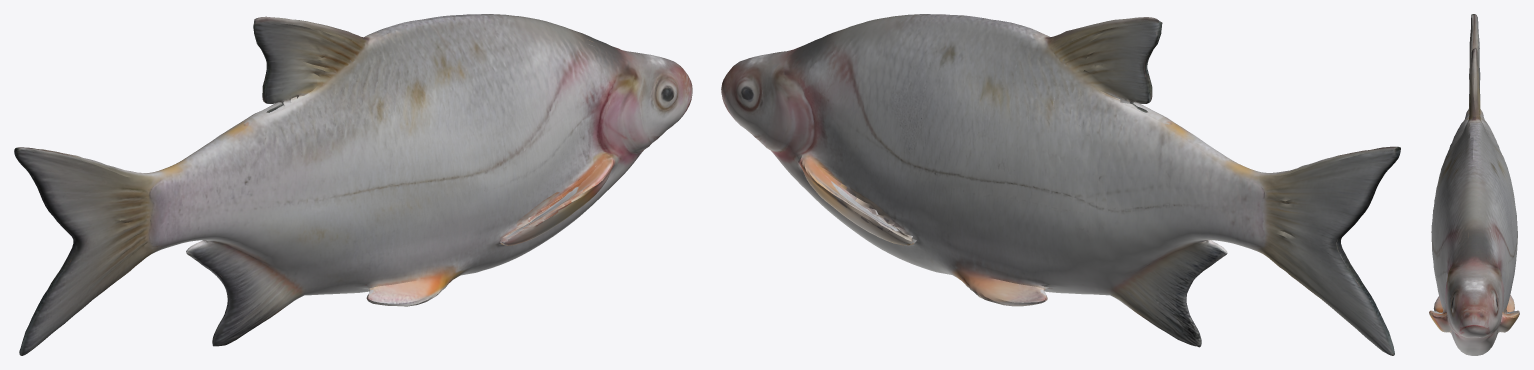
Rendered from bream.glb.
3 renders of one model, left to right at view 1: azimuth 30°, elevation 25°; view 2: azimuth 150°, elevation 25°; view 3: azimuth 270°, elevation 25°, orthographic. The views are drawn at different scales.
Parts seen in each view (by area): view 1: bream_realistic.002; view 2: bream_realistic.002; view 3: bream_realistic.002.
Boxes of the visible parts, left/top/right/bottom form: bream_realistic.002: left=14, top=14, right=692, bottom=355; bream_realistic.002: left=721, top=14, right=1400, bottom=355; bream_realistic.002: left=1429, top=14, right=1519, bottom=355.
Bounding box in the file's own units: 1 × 0.4504 × 0.1614.
Materials: 1 (1 with a texture image).
